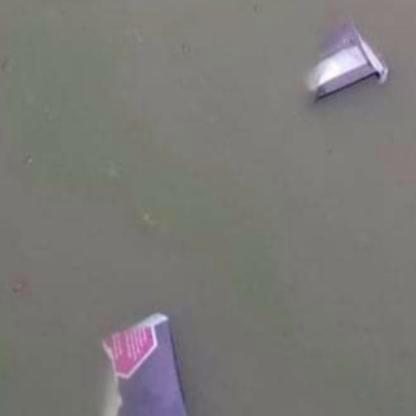Trash: (98, 309, 188, 415), (300, 22, 390, 107)
